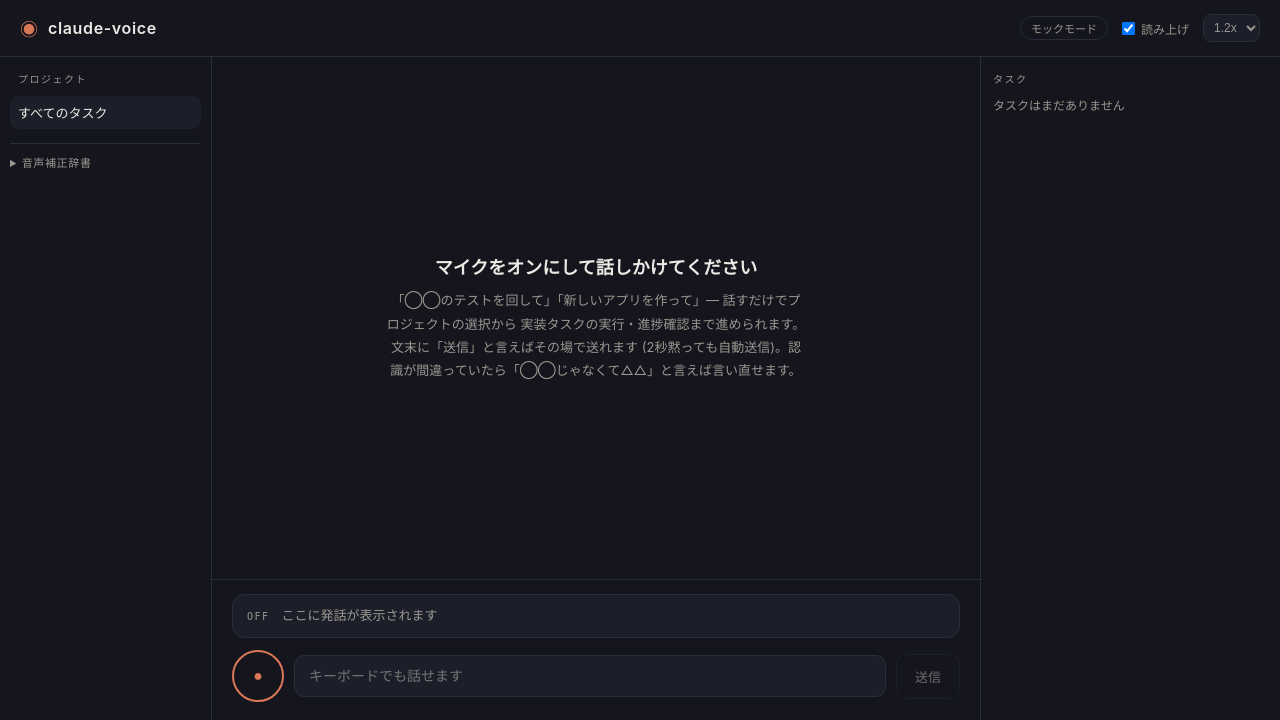
Test case: 編集可能な認識テキスト › 編集後のテキストが送信され、入力欄はクリアされる
The width and height of the screenshot is (1280, 720).
Click the button named "マイクを開始" at [258, 676], box x1=232 y1=650 x2=284 y2=702
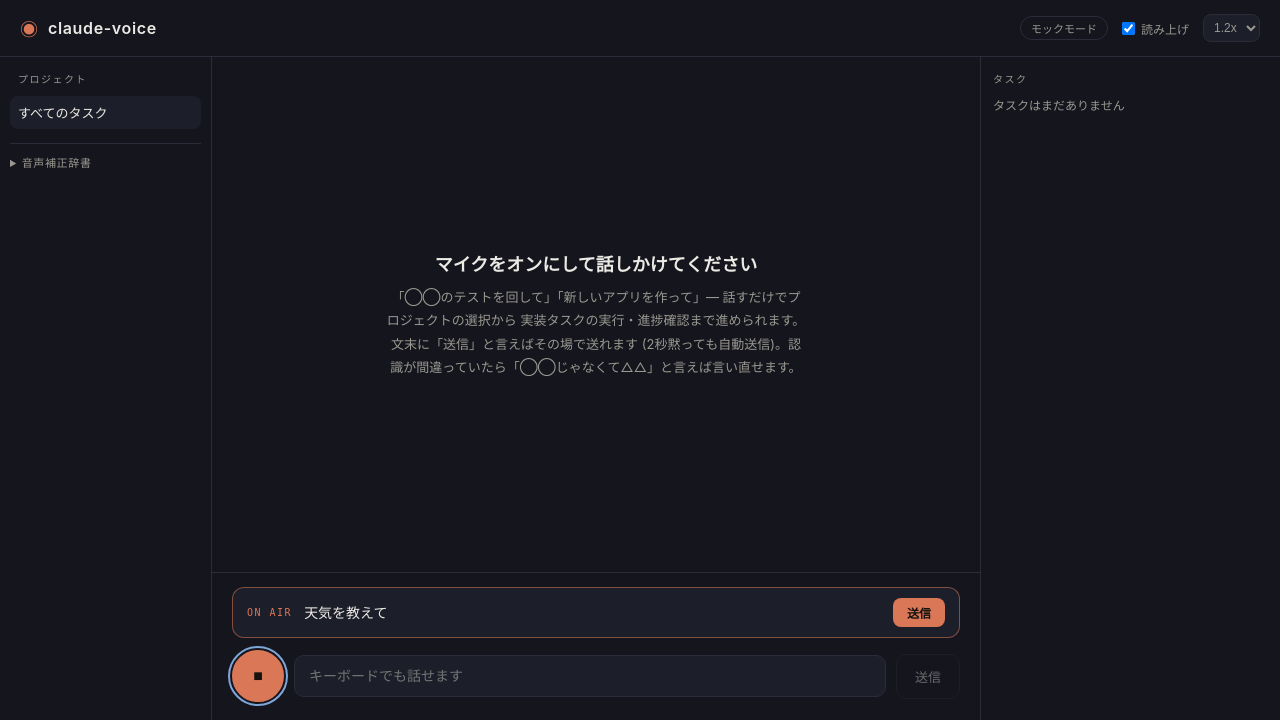
Replace the text in the text box named "認識テキスト(編集できます)" with "東京の天気を教えて" at [593, 612], box x1=304 y1=602 x2=881 y2=623
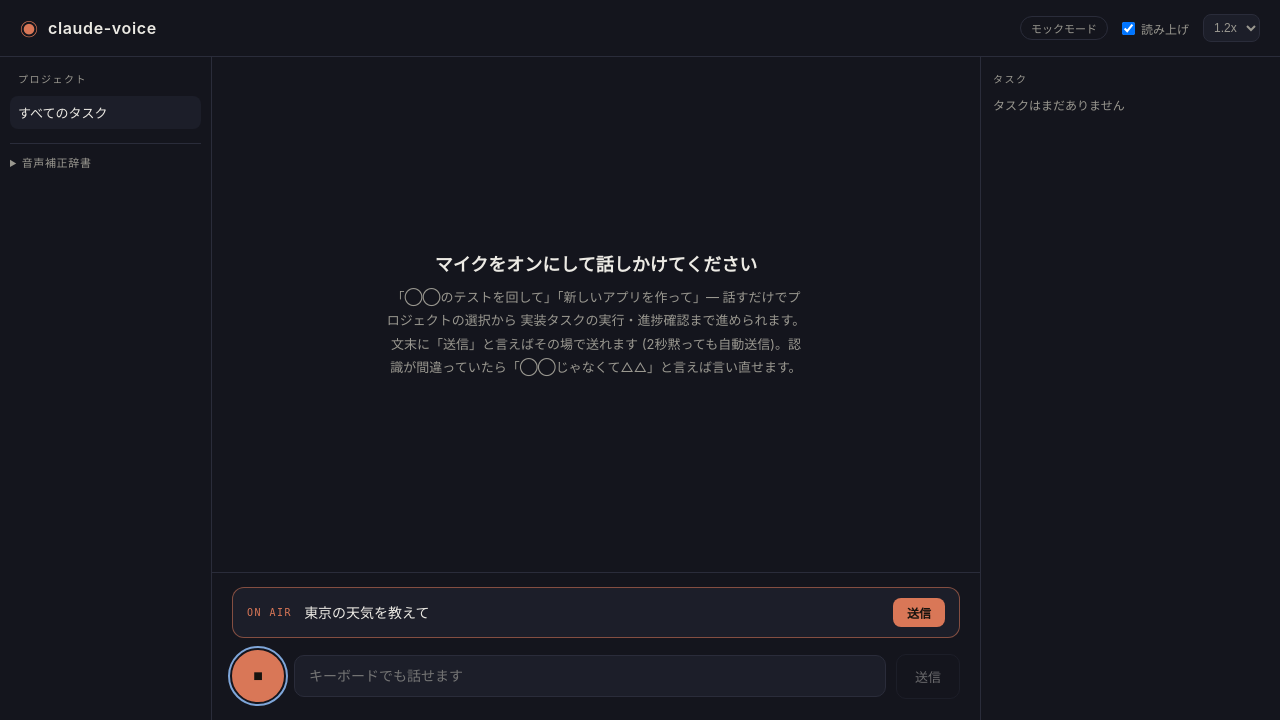
Click the button "送信" in the row of "ON AIR" at [919, 612], box x1=893 y1=598 x2=945 y2=627
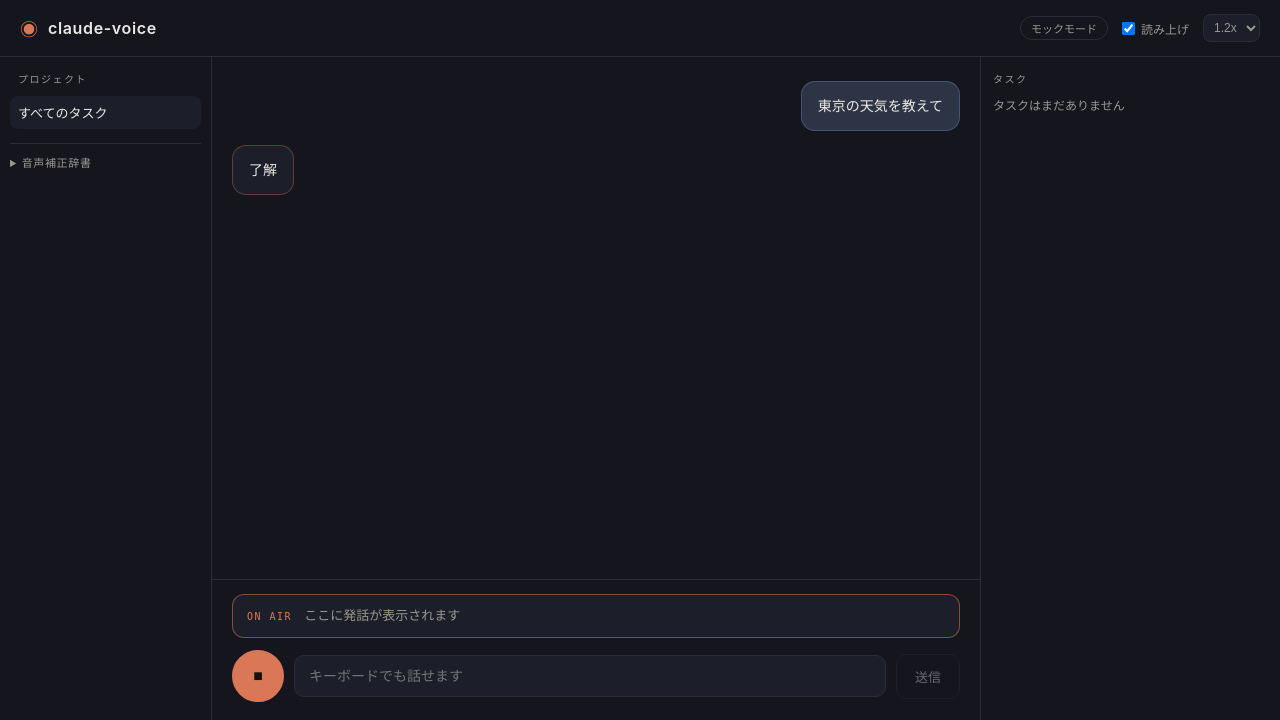
Expected: the text "東京の天気を教えて" is shown, x1=818 y1=94 x2=943 y2=118
Expected: the text box named "認識テキスト(編集できます)" is empty, x1=304 y1=606 x2=945 y2=626
